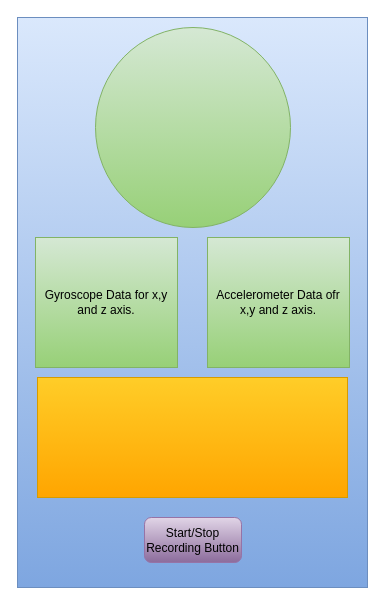
The diagram is 385 pixels wide and 605 high, and some of its shapes have lost their labels. Here are the shapes that lost their labels. From the top down, the centre of each, then its label:
the point at 192,127: Compass to show orientation
the point at 192,437: Data logging options (walk style)
